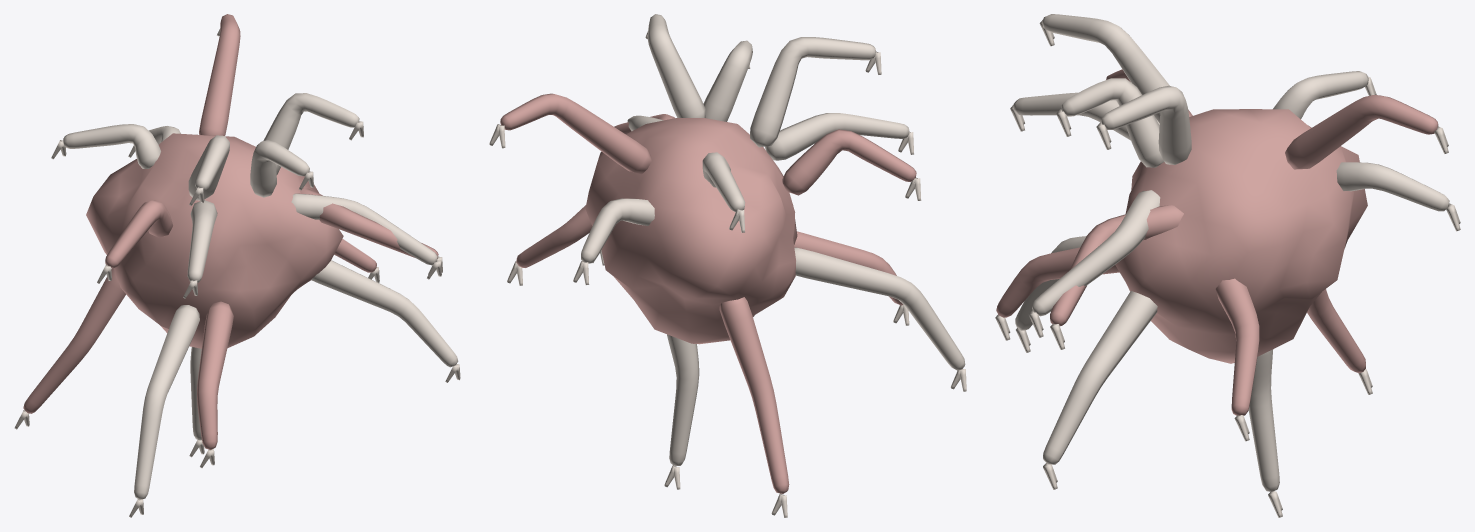
The model's file is SM_Clump.fbx.
The picture shows the model from 3 angles, left to right: view 1: azimuth 30°, elevation 25°; view 2: azimuth 150°, elevation 25°; view 3: azimuth 270°, elevation 25°; orthographic projection. The views are drawn at different scales.
Parts seen in each view (by area): view 1: SM_Clump; view 2: SM_Clump; view 3: SM_Clump.
Boxes of the visible parts, x1,y1,x2,y2 form: SM_Clump: [14, 14, 460, 517]; SM_Clump: [489, 14, 966, 517]; SM_Clump: [995, 14, 1460, 517].
Bounding box in the file's own units: 171 × 182 × 166.
